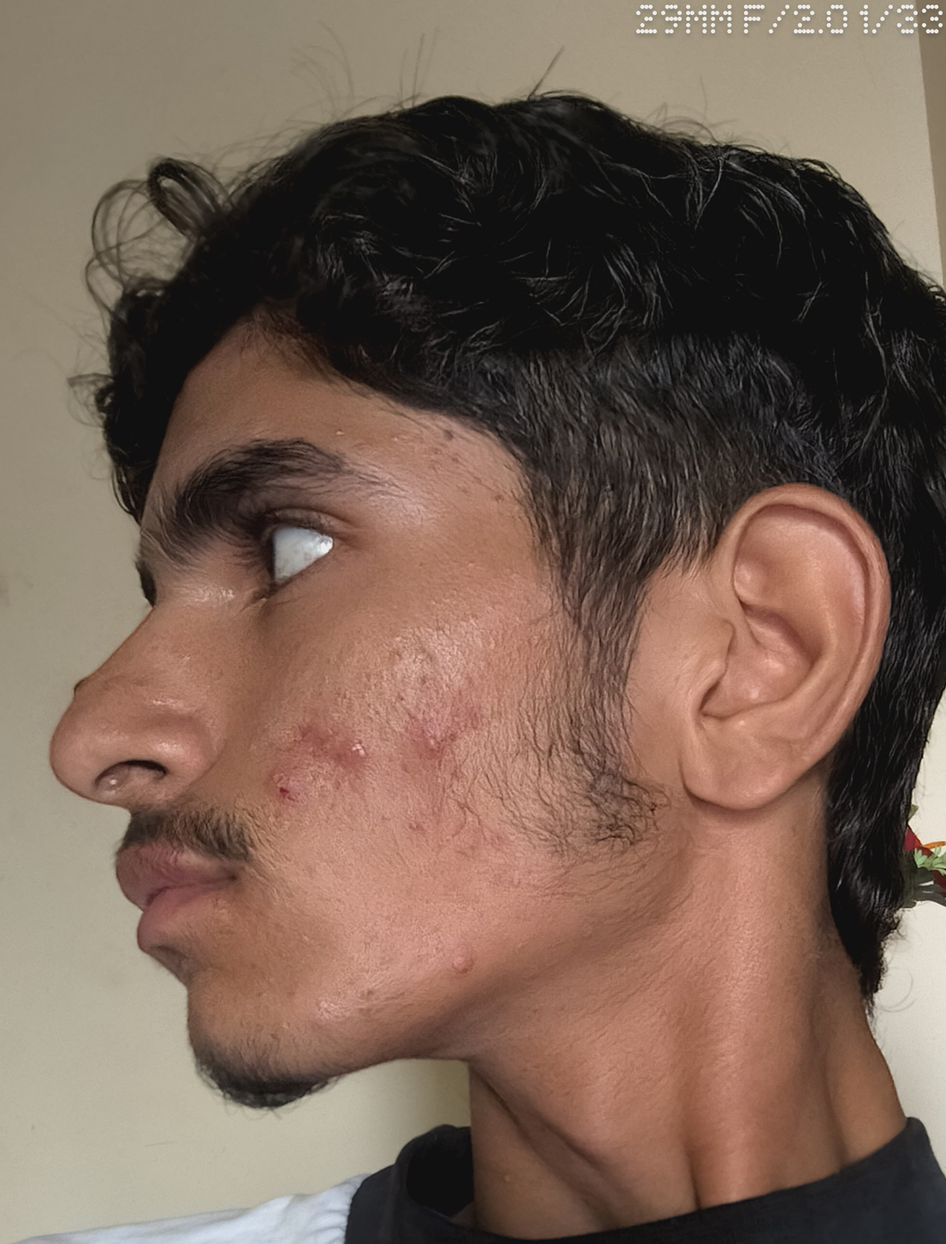cyst: (409, 728, 444, 765), (334, 741, 372, 770)
nodule: (451, 950, 477, 976)
pustule: (334, 430, 348, 438), (392, 436, 401, 443)
